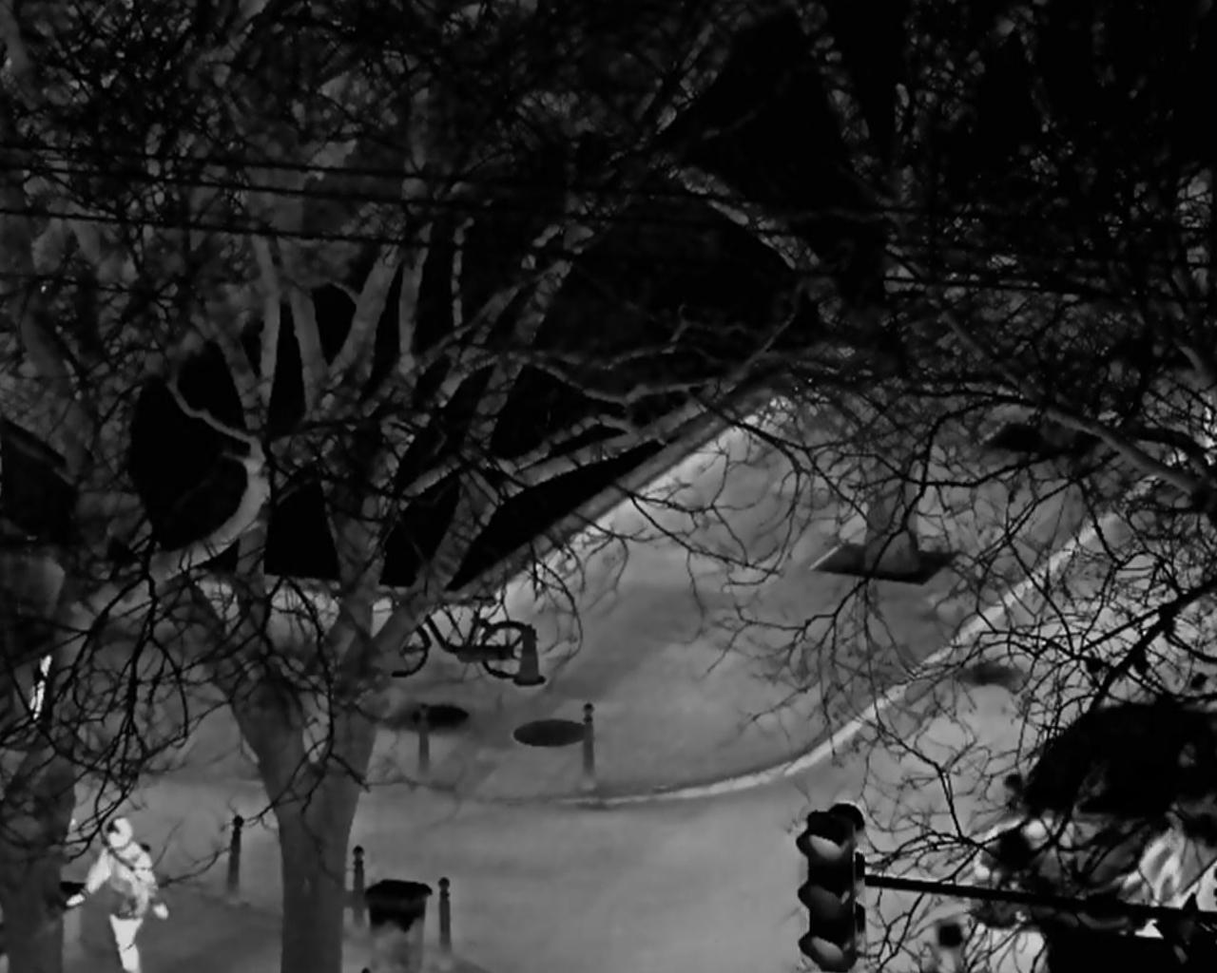person: (67, 814, 169, 973)
